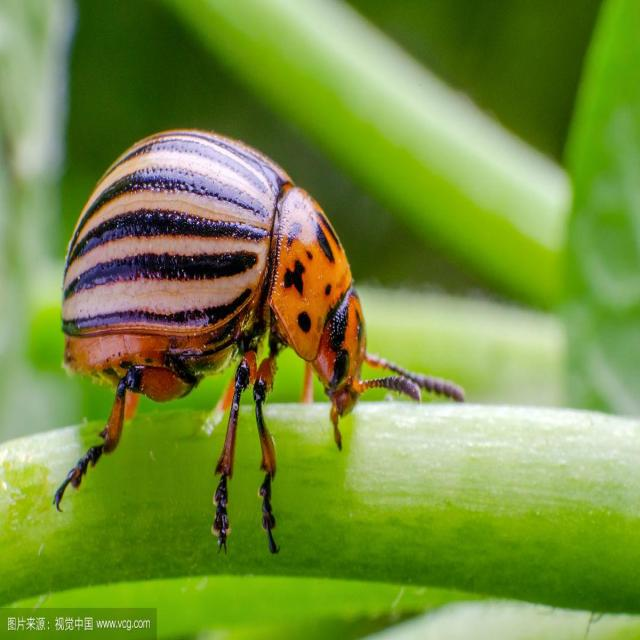ShuCaiHuaBanChong-Grown-: (46, 124, 398, 470)
